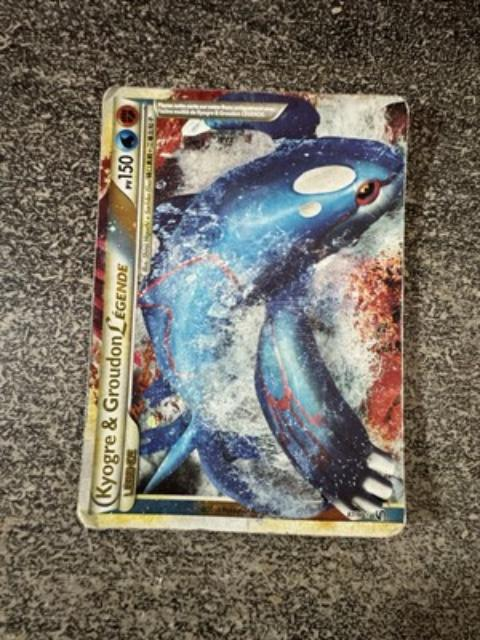Card: (72, 81, 414, 544)
Name: (91, 252, 134, 506)
